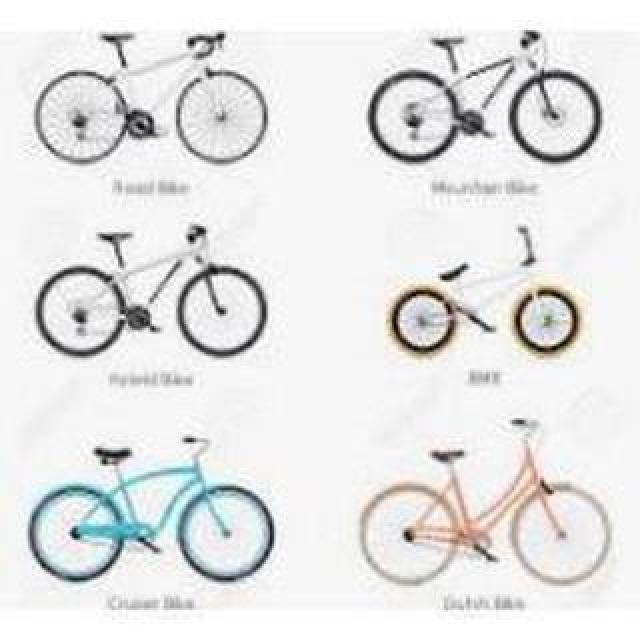Person: (362, 414, 612, 590), (26, 436, 280, 584), (32, 28, 276, 166), (32, 224, 274, 358), (368, 32, 606, 164), (386, 230, 586, 358)
